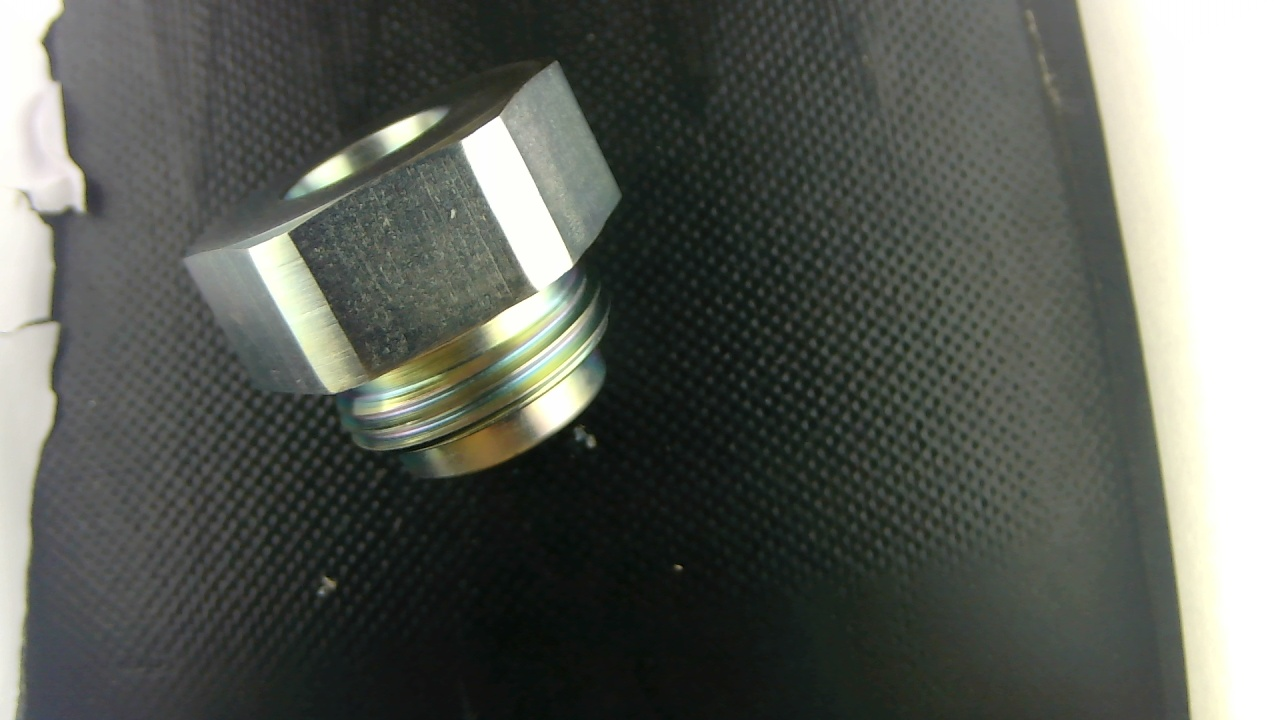Capnut_Okay: (185, 62, 619, 476)
